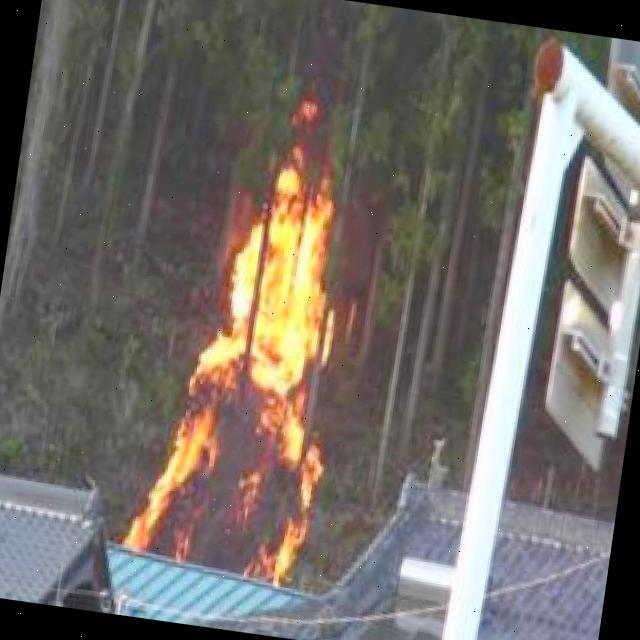fire: (132, 150, 365, 590)
